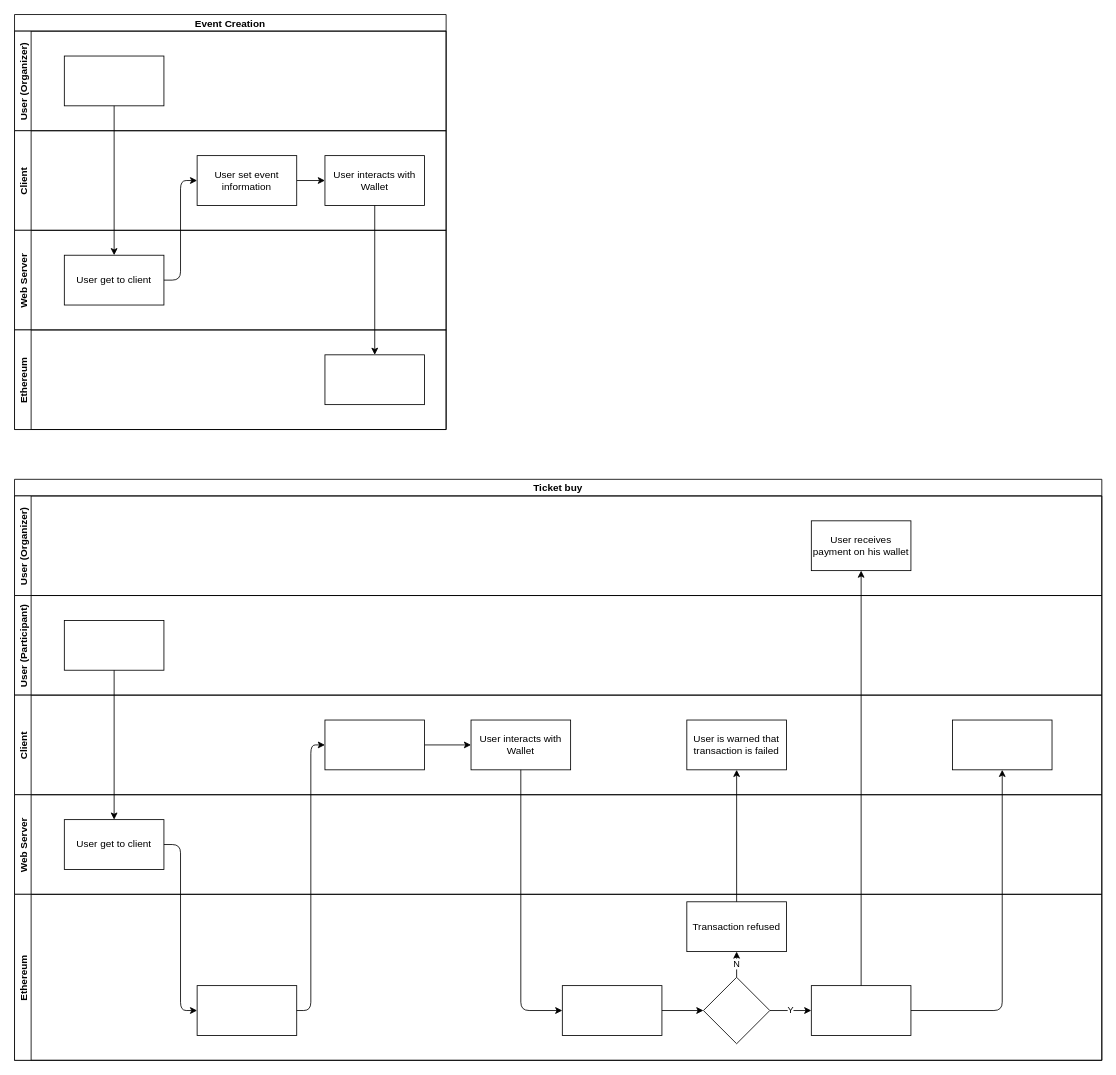
Image size: 1116x1075. Some labels were removed from this diagram. The shapes that lost their labels are listed below. From the top down, each one's centre as x and y in pixels, then its label:
the point at 113,80: User wants to create an event
the point at 374,379: Event gets created with token pool
the point at 113,645: User wants to buy a ticket for an event
the point at 374,744: User select the event the wants to buy
the point at 1002,744: User is informed that transaction is successful
the point at 246,1010: Client gets events
the point at 611,1010: User pays for the ticket
the point at 736,1010: User has enough money
the point at 860,1010: User gets a token for the ticket type for the event he wants
